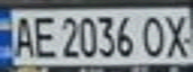0: (78, 12, 100, 60)
2: (57, 12, 81, 60)
3: (97, 12, 118, 59)
6: (115, 12, 142, 59)
A: (9, 12, 39, 60)
E: (30, 12, 57, 60)
O: (139, 11, 172, 58)
X: (160, 10, 193, 60)
